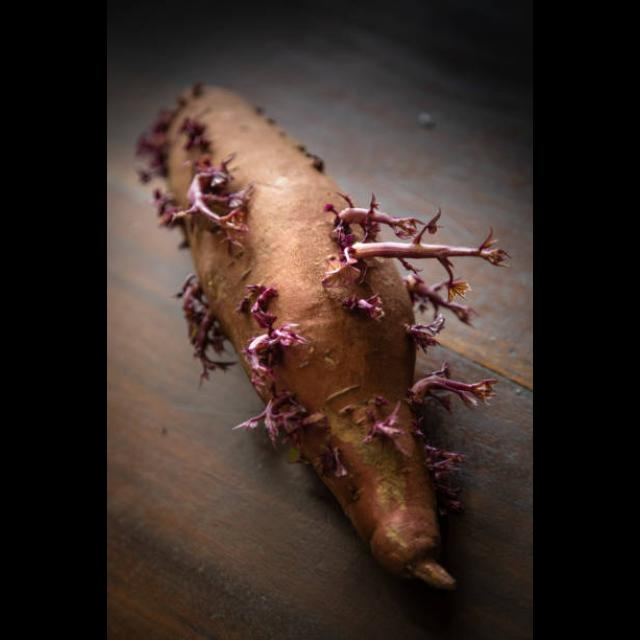Sprouted potato: (109, 62, 514, 586)
